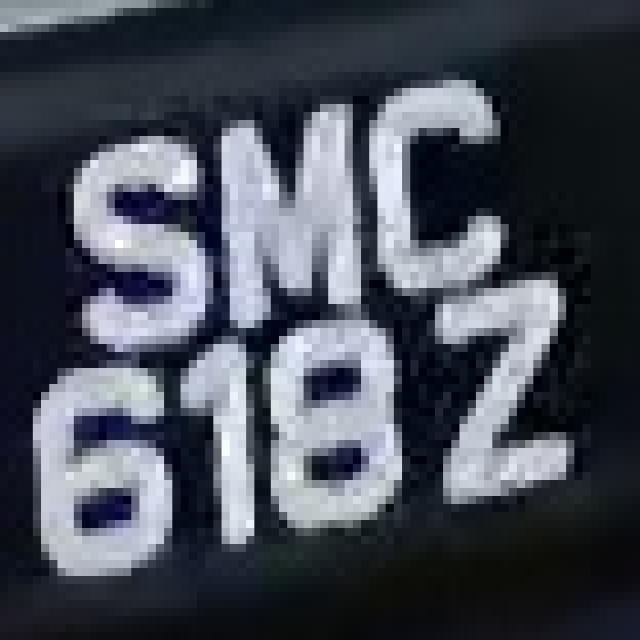1: (172, 328, 279, 584)
6: (25, 344, 188, 600)
8: (246, 288, 419, 560)
C: (361, 64, 525, 296)
M: (205, 88, 369, 328)
S: (49, 112, 205, 352)
Z: (427, 272, 582, 520)
